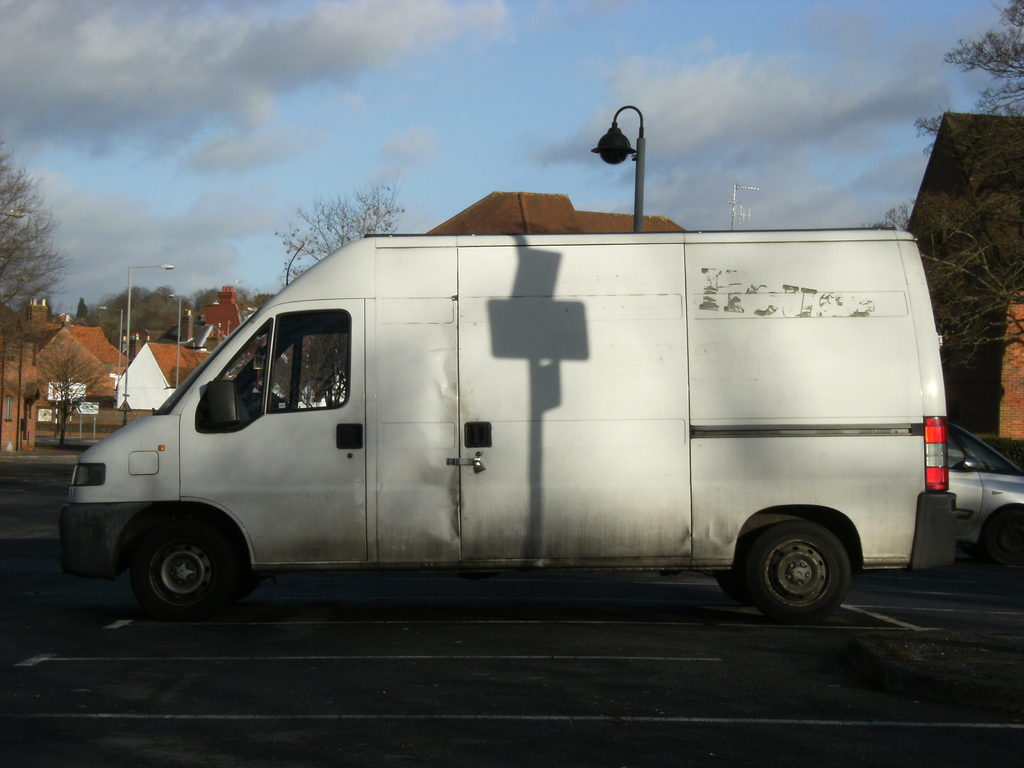Car: (897, 399, 1024, 572)
